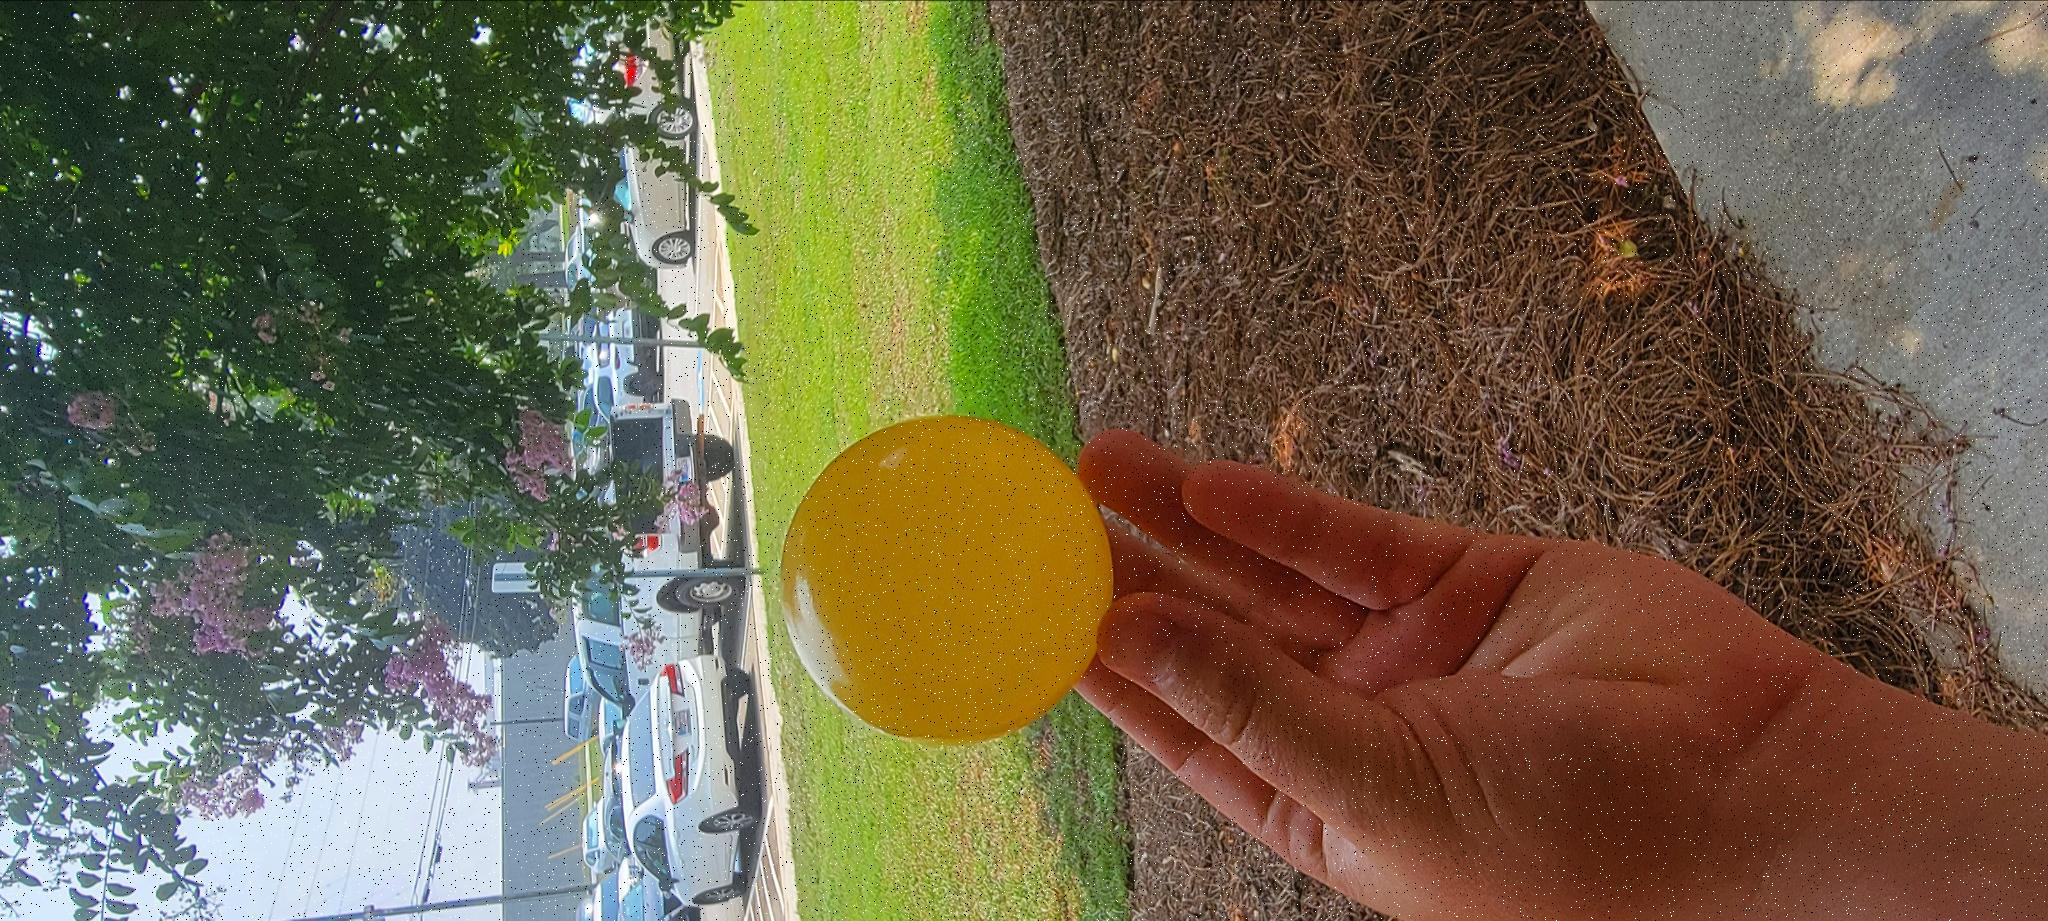Yellow-Ball: (184, 776, 505, 921)
